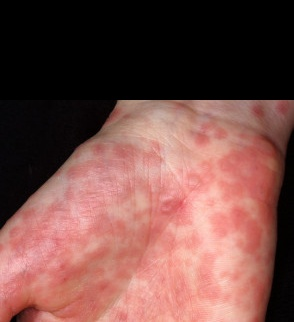SJS-TEN: (0, 96, 294, 322)
